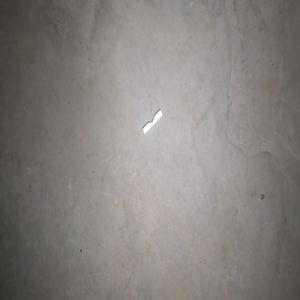ClampPart: (141, 107, 162, 135)
